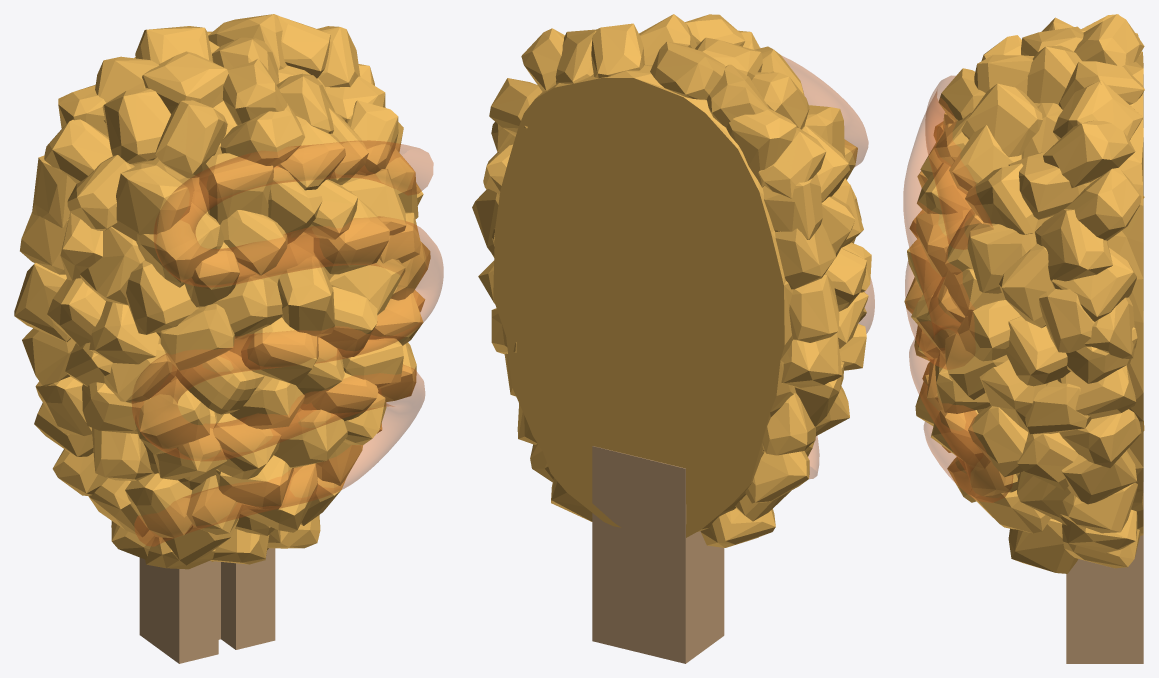
The model's file is potato_hotdog.glb.
The picture shows the model from 3 angles, left to right: view 1: azimuth 30°, elevation 25°; view 2: azimuth 150°, elevation 25°; view 3: azimuth 270°, elevation 25°; orthographic projection. The views are drawn at different scales.
Visible parts, largest first — view 1: Cube.695, Cube.001, Cube.696; view 2: Cube.695, Cube.696, Cube.001; view 3: Cube.695, Cube.001, Cube.696.
Boxes of the visible parts, x1,y1,x2,y2 form: Cube.695: (14,14,432,569); Cube.001: (132,140,443,546); Cube.696: (139,548,275,663); Cube.695: (472,14,871,547); Cube.696: (592,446,724,663); Cube.001: (782,56,874,478); Cube.695: (904,14,1144,573); Cube.001: (903,75,1012,502); Cube.696: (1066,482,1143,663).
Bounding box in the file's own units: 11.03 × 17.17 × 6.25.
